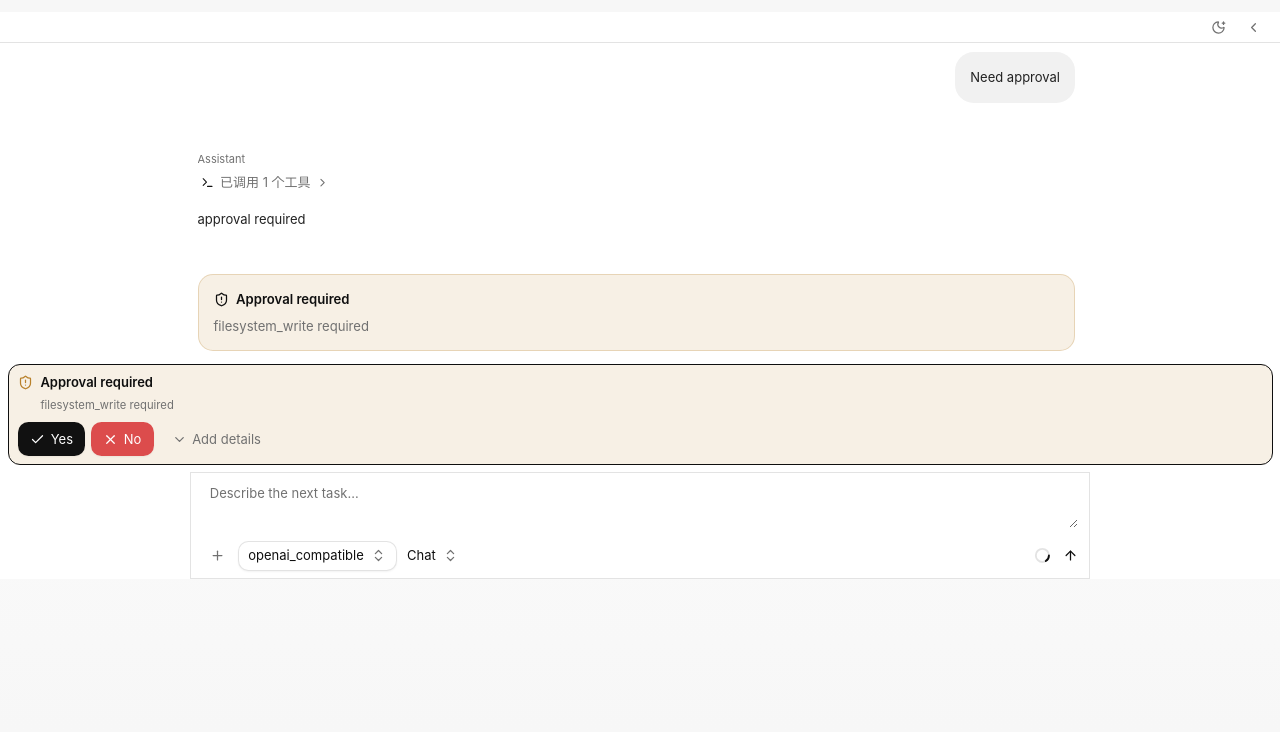
it: WorkspaceShell › shows context token pressure from thread state
Expected: the icon with test id "context-window-indicator" is shown, [1033, 546, 1052, 565]
What coordinates should you click on to do the following:
click the button named "context window 162 / 1k (16%)"
I would click on:
 (1042, 556)
Its box is [1029, 542, 1055, 569].
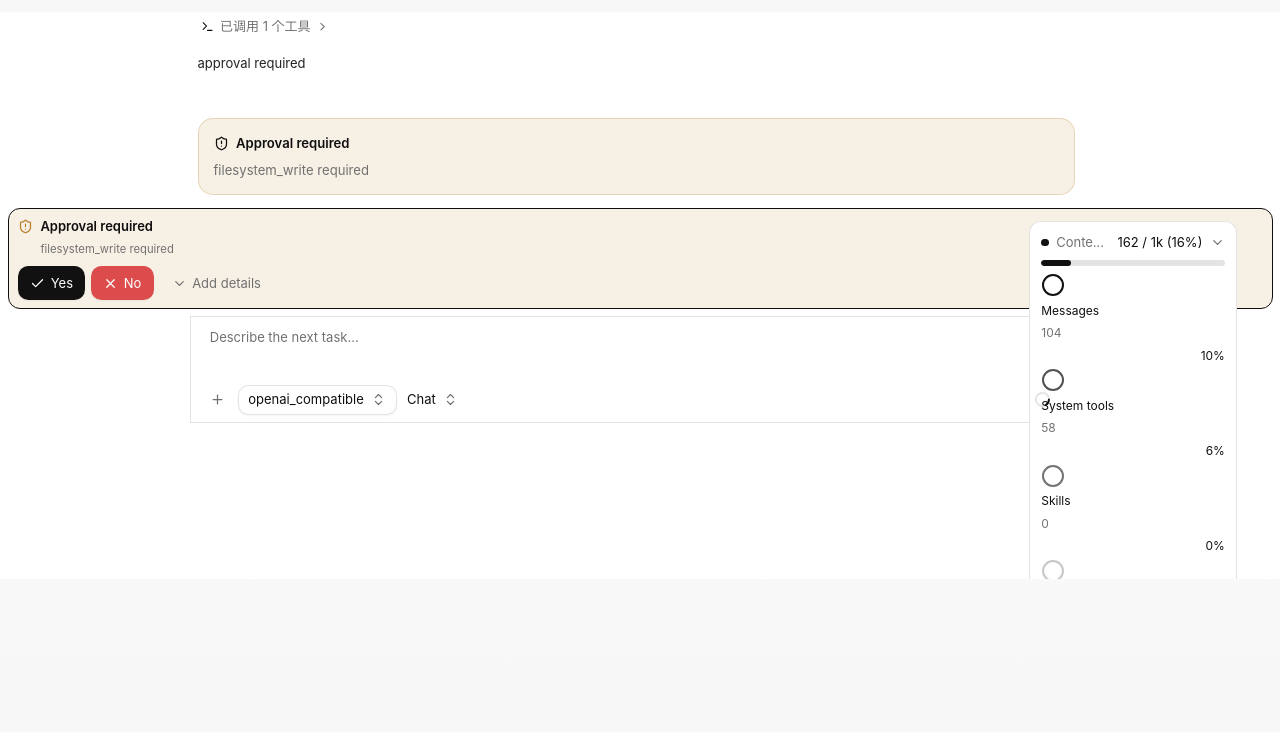
Expected: the element with test id "context-window-popover" shows "162 / 1k (16%)", [1029, 221, 1252, 579]
